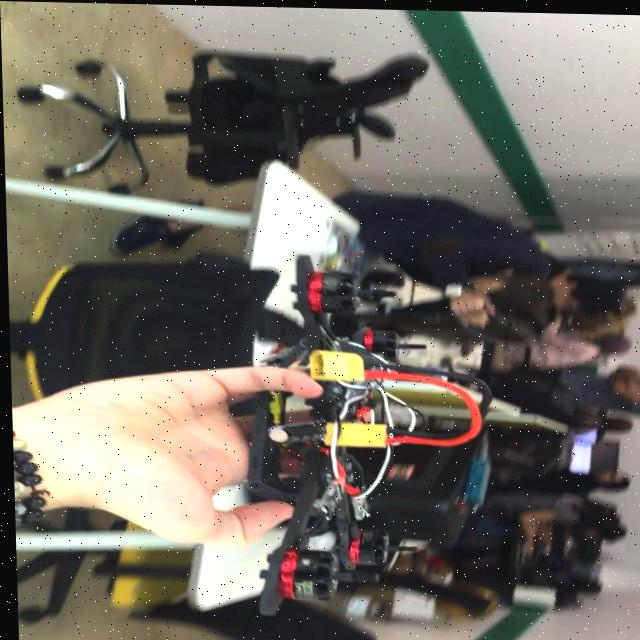drone: (234, 232, 425, 603)
